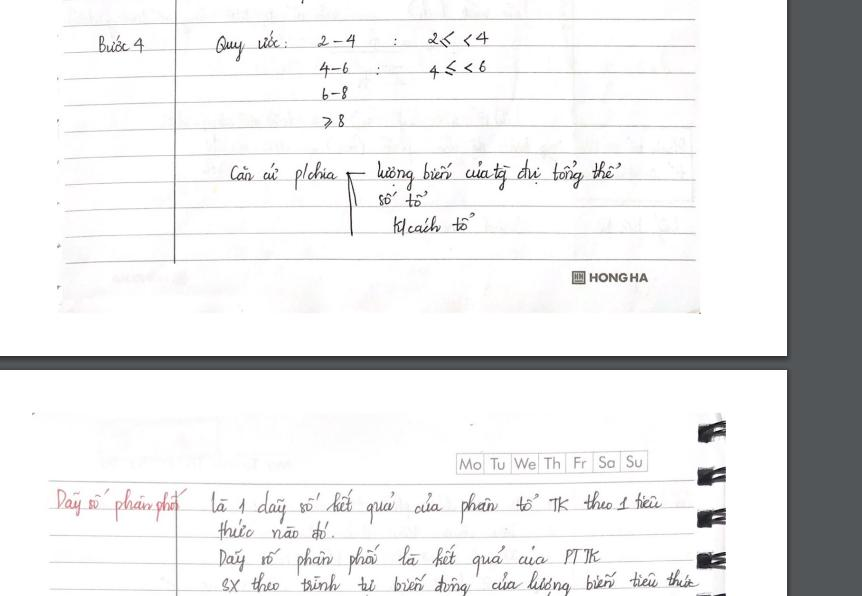text: (209, 489, 665, 526), (219, 567, 701, 596), (215, 545, 603, 577), (375, 157, 622, 193), (53, 486, 189, 523), (227, 159, 339, 192), (458, 454, 644, 473), (216, 518, 337, 544), (212, 28, 289, 65), (390, 210, 476, 237), (426, 57, 489, 82), (425, 28, 491, 50), (96, 33, 146, 56), (376, 189, 429, 209), (587, 270, 650, 285), (315, 32, 357, 51), (317, 60, 350, 80), (319, 85, 349, 104), (319, 111, 346, 132)
